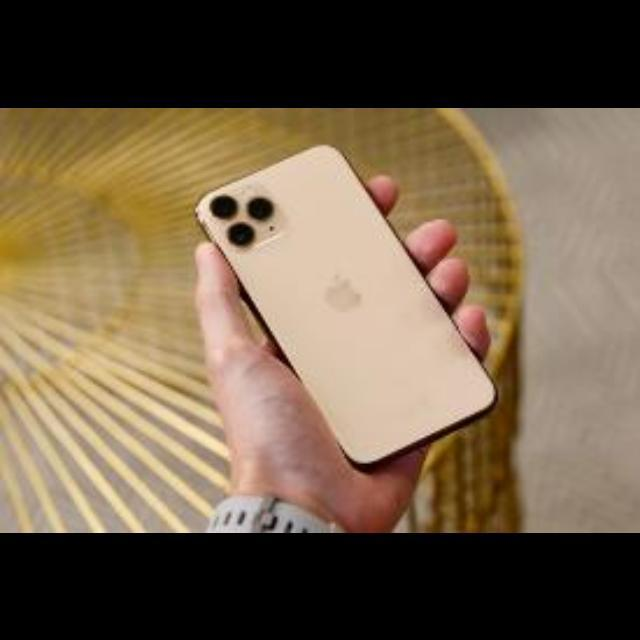PhoneUse: (196, 144, 498, 470)
